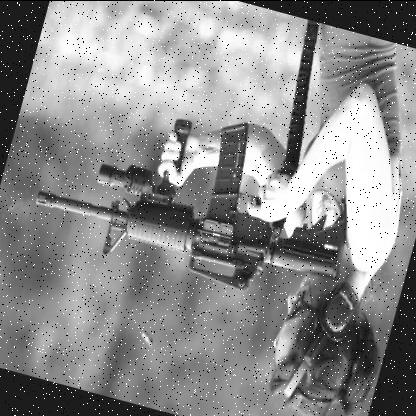rifle: (18, 72, 375, 313)
